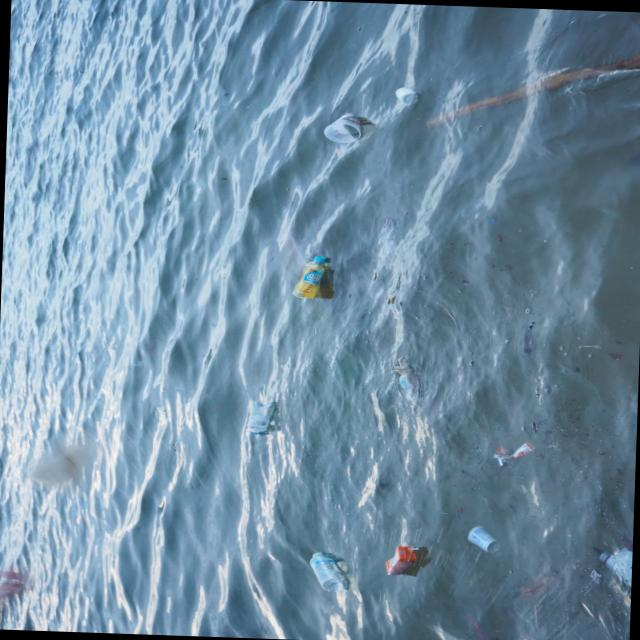plastic: (290, 253, 328, 299), (308, 550, 350, 588), (243, 398, 277, 433)
plastic bottle: (326, 106, 369, 144), (461, 525, 502, 554), (389, 84, 422, 103)
unknow: (382, 352, 422, 403), (592, 542, 632, 590), (382, 544, 423, 580), (488, 444, 532, 466)
